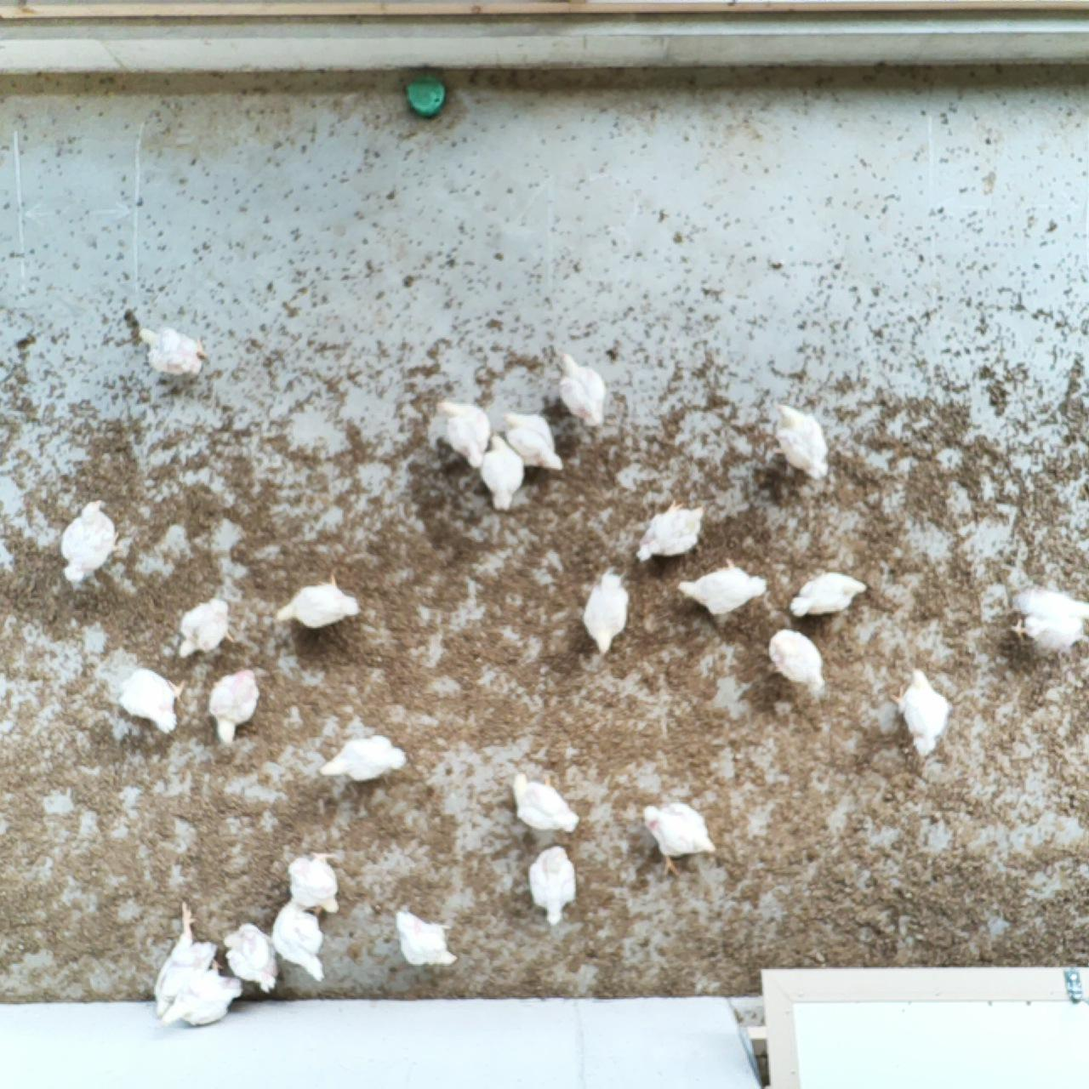chicken: (154, 898, 221, 1015), (889, 664, 957, 763), (639, 796, 718, 878), (160, 959, 242, 1029), (57, 497, 121, 584), (678, 557, 769, 618), (769, 398, 832, 486), (1008, 586, 1089, 653), (269, 896, 328, 983), (274, 572, 363, 629), (510, 771, 583, 840), (389, 904, 462, 971), (550, 348, 607, 431), (634, 500, 710, 562), (207, 666, 264, 748), (321, 732, 407, 785), (581, 568, 631, 657), (119, 667, 185, 734), (431, 397, 491, 470), (528, 842, 580, 925), (502, 404, 564, 473), (220, 920, 279, 992), (476, 431, 526, 515), (767, 624, 827, 694), (135, 324, 210, 379), (791, 568, 868, 620), (286, 851, 340, 918), (178, 592, 231, 658)
